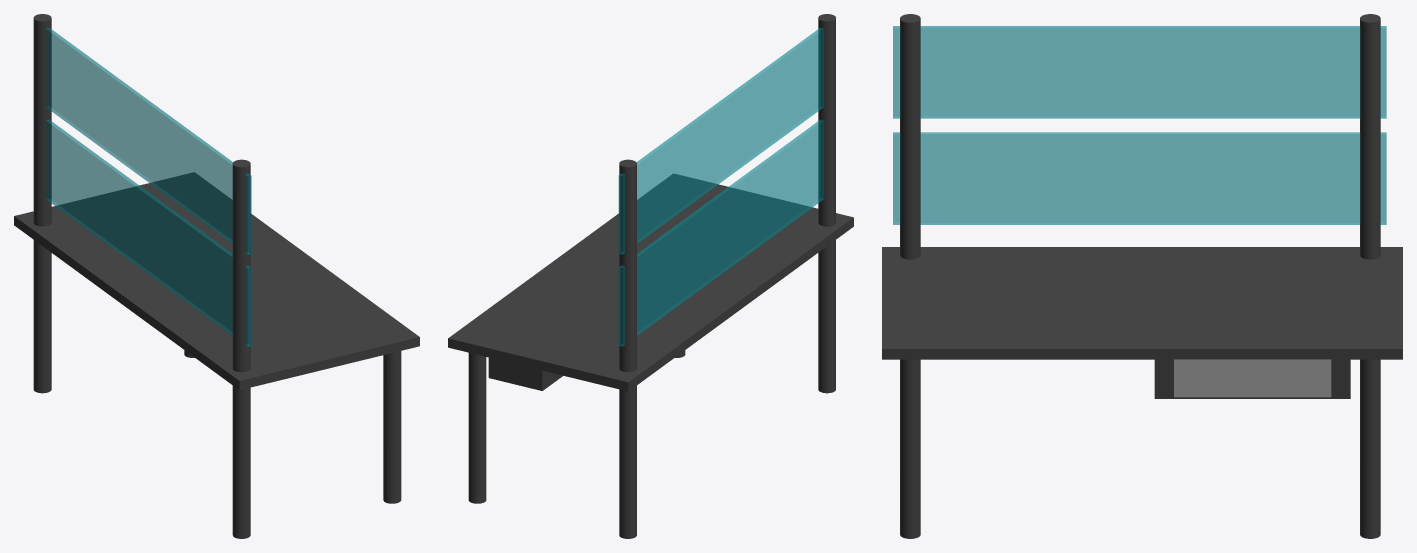
File: desk.fbx
3 renders of one model, left to right at view 1: azimuth 30°, elevation 25°; view 2: azimuth 150°, elevation 25°; view 3: azimuth 270°, elevation 25°, orthographic. The views are drawn at different scales.
Parts seen in each view (by area): view 1: pCube1, pCube3, pasted__pCube3, pCylinder1, pasted__pasted__pCylinder1, pasted__pCylinder1; view 2: pCube1, pCube3, pasted__pCube3, pasted__pasted__pCylinder1 (×2), pCylinder1, pCube2; view 3: pCube1, pCube3, pasted__pCube3, pasted__pasted__pCylinder1 (×2), pasted__pCube2, pCylinder1, pasted__pCylinder1, pCube2.
Part boxes in pixels (x1,y1,x2,y2): pCube1: [14, 172, 419, 390]; pCube3: [46, 28, 251, 254]; pasted__pCube3: [46, 120, 251, 346]; pCylinder1: [232, 159, 250, 538]; pasted__pasted__pCylinder1: [33, 14, 51, 393]; pasted__pCylinder1: [383, 351, 401, 503]; pCube1: [448, 173, 853, 391]; pCube3: [618, 27, 823, 254]; pasted__pCube3: [618, 119, 823, 346]; pasted__pasted__pCylinder1 (×2): [468, 159, 636, 538]; pCylinder1: [818, 14, 835, 393]; pCube2: [488, 357, 562, 390]; pCube1: [882, 247, 1402, 359]; pCube3: [893, 26, 1386, 118]; pasted__pCube3: [893, 132, 1386, 224]; pasted__pasted__pCylinder1 (×2): [1360, 14, 1380, 538]; pasted__pCube2: [1174, 359, 1331, 397]; pCylinder1: [900, 14, 920, 259]; pasted__pCylinder1: [900, 359, 920, 538]; pCube2: [1154, 359, 1350, 398].
Bounding box in the file's own units: 3.34 × 6.61 × 7.24.
